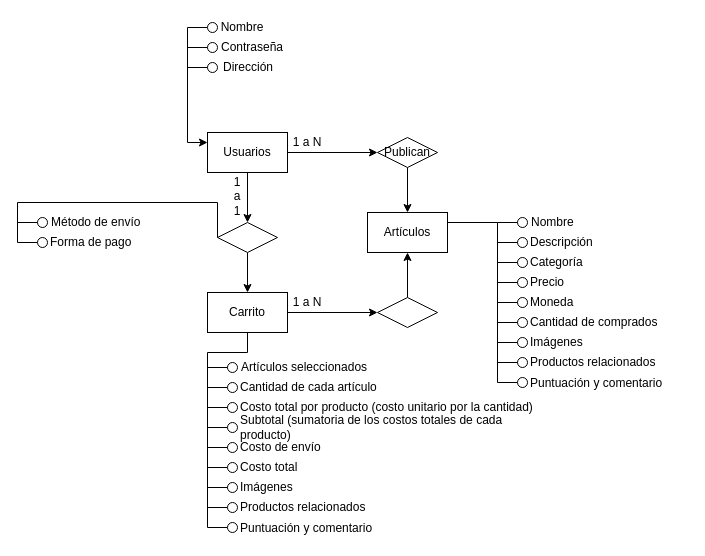
Image size: 705x556. Some labels were removed from this diagram. The shapes that lost their labels are listed below. From the top down, each one's centre as x and y in pixels, then its label:
point (247, 237): Compra
point (407, 312): Agrega
